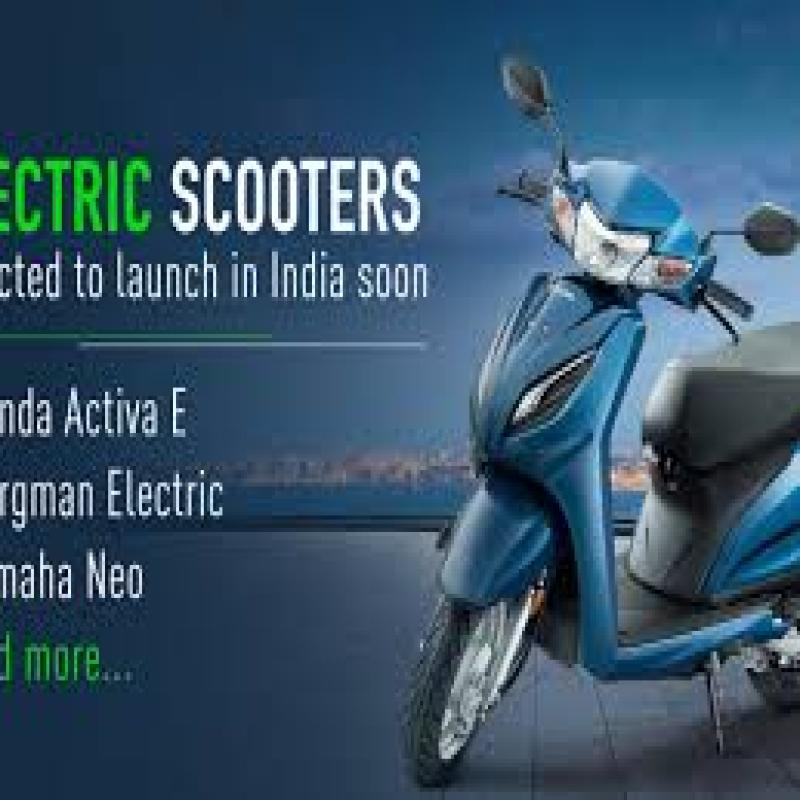bike: (422, 35, 800, 787)
